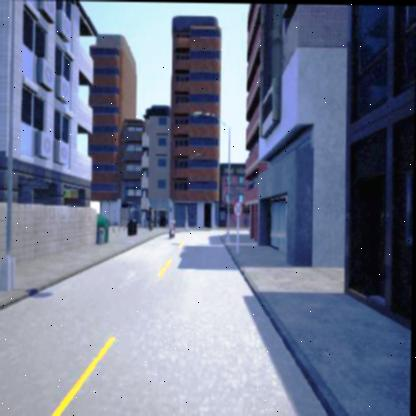motobike: (169, 215, 176, 237)
